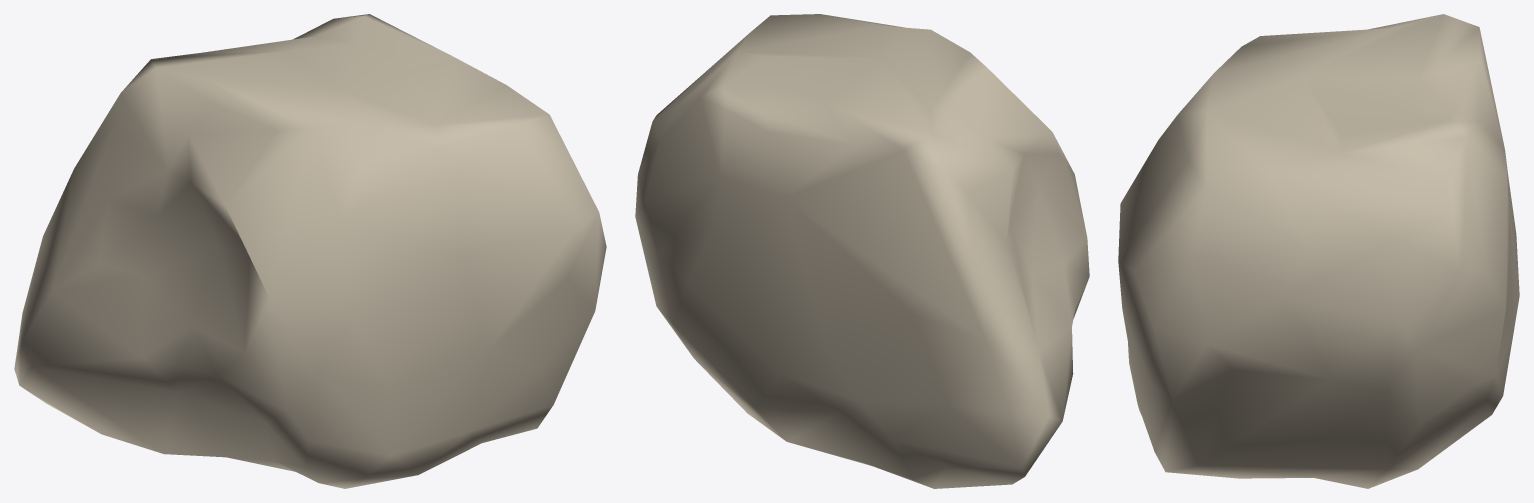
The model's file is itch_assetquest_pond_rock_1c.glb.
3 views of the same model, side by side, from view 1: azimuth 30°, elevation 25°; view 2: azimuth 150°, elevation 25°; view 3: azimuth 270°, elevation 25° (orthographic). The views are drawn at different scales.
Visible parts, largest first — view 1: Rock_1c; view 2: Rock_1c; view 3: Rock_1c.
Part boxes in pixels (bbox=[...]): Rock_1c: bbox=[14, 14, 606, 488]; Rock_1c: bbox=[635, 14, 1089, 488]; Rock_1c: bbox=[1118, 14, 1519, 488].
Bounding box in the file's own units: 1.18 × 0.8636 × 0.8718.
